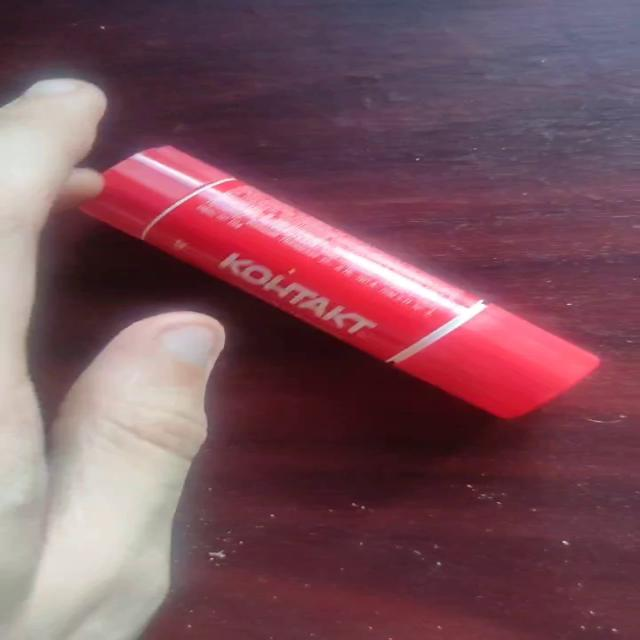glue: (74, 143, 601, 419)
